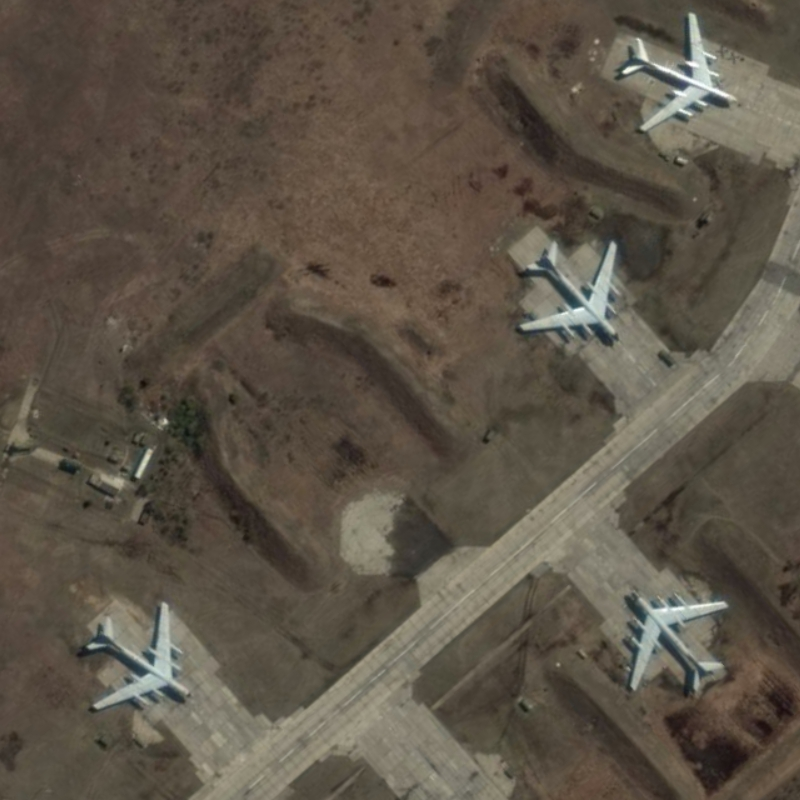A17: (619, 10, 740, 135), (83, 599, 196, 713), (516, 239, 624, 345), (626, 589, 732, 694)
